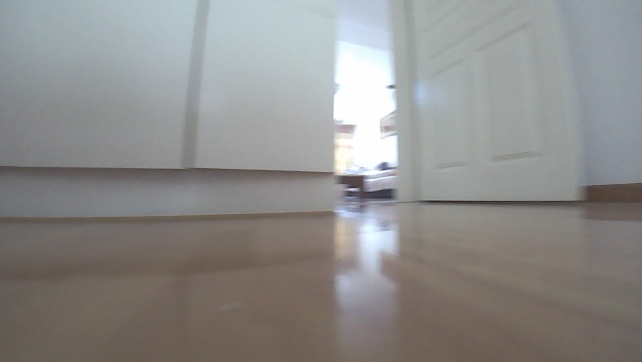door_anno: (388, 0, 588, 204)
